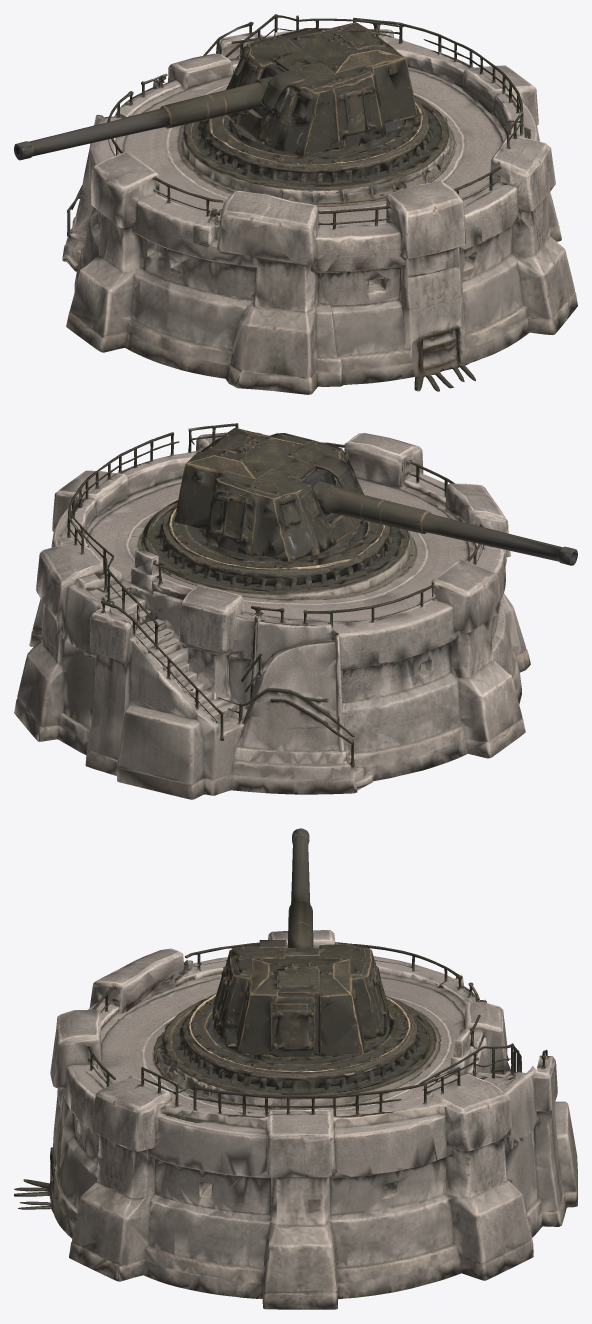
The model's file is cannon.glb.
3 views of the same model, one above another, from view 1: azimuth 30°, elevation 25°; view 2: azimuth 150°, elevation 25°; view 3: azimuth 270°, elevation 25° (orthographic). The views are drawn at different scales.
Visible parts, largest first — view 1: cannon; view 2: cannon; view 3: cannon.
Part boxes in pixels (bbox=[...]): cannon: bbox=[14, 14, 577, 394]; cannon: bbox=[14, 423, 577, 799]; cannon: bbox=[14, 828, 577, 1309].
Bounding box in the file's own units: 1.9 × 0.8336 × 1.71.
Materials: 1 (1 with a texture image).
